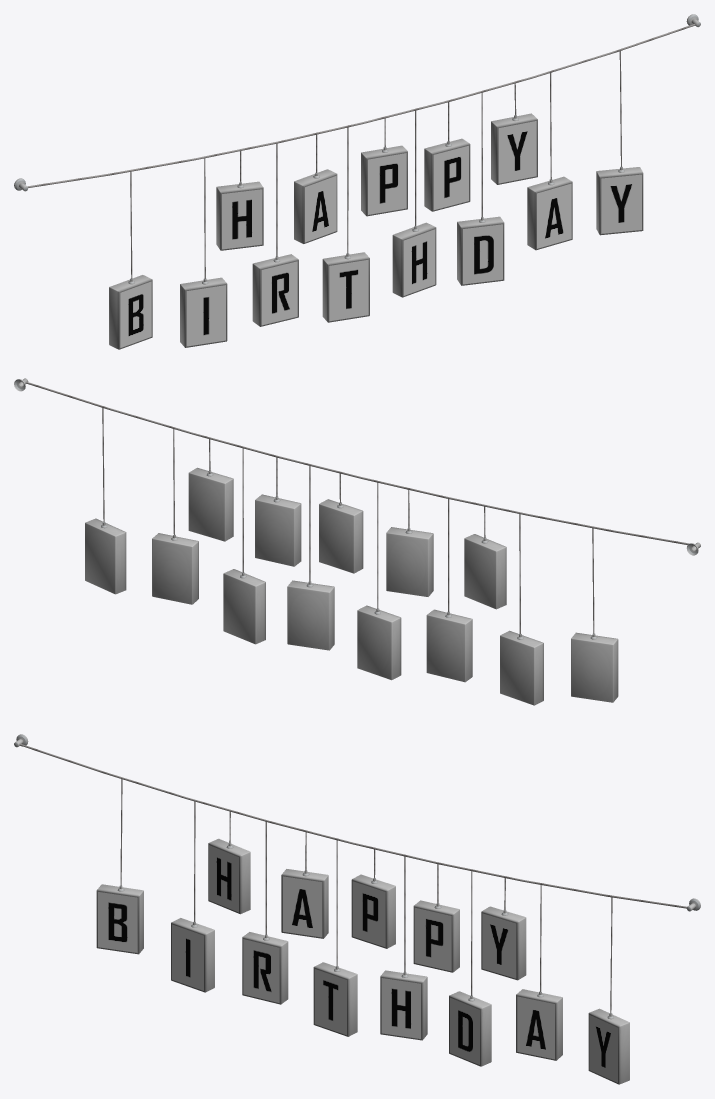
File: LettersLightBox01_GR3.FBX
3 views of the same model, one above another, from view 1: azimuth 30°, elevation 25°; view 2: azimuth 150°, elevation 25°; view 3: azimuth 330°, elevation 25° (orthographic).
Visible parts, largest first — view 1: LettersLightBox01_GR3; view 2: LettersLightBox01_GR3; view 3: LettersLightBox01_GR3.
Boxes of the visible parts, x1=… form: LettersLightBox01_GR3: x1=14, y1=14, x2=700, y2=349; LettersLightBox01_GR3: x1=14, y1=378, x2=700, y2=705; LettersLightBox01_GR3: x1=14, y1=734, x2=700, y2=1084.
Size of what is drawn, in the model's own units: 3.06 by 0.9044 by 0.107.
